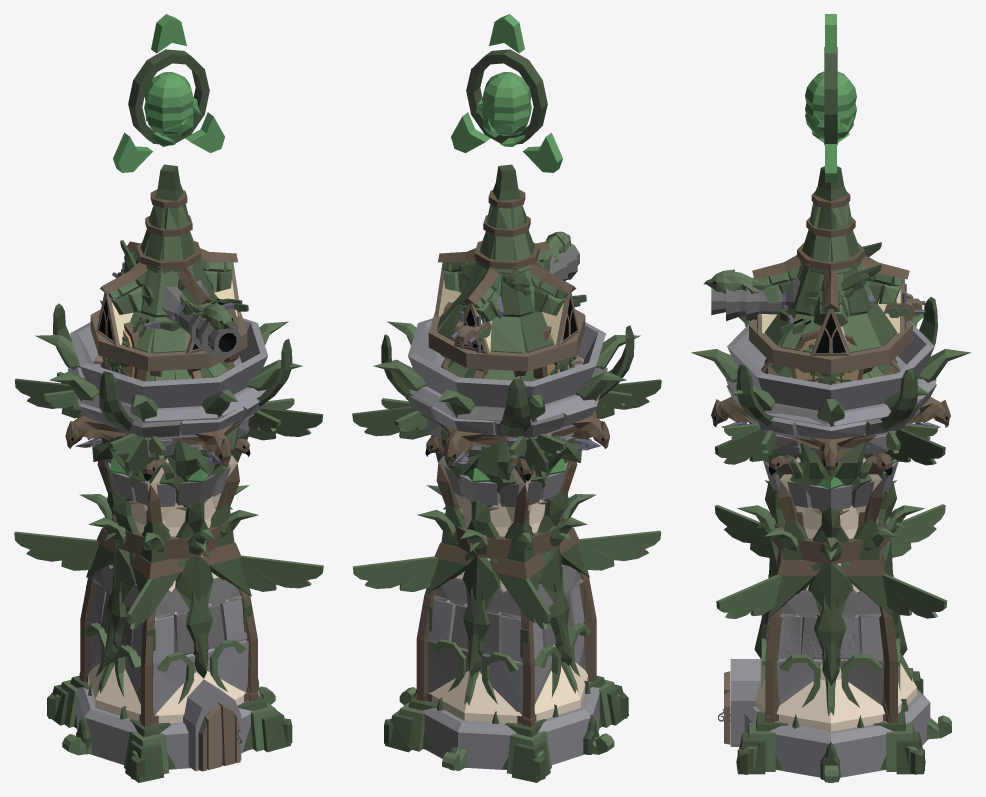
Rendered from tower-collection.fbx.
3 renders of one model, left to right at view 1: azimuth 30°, elevation 25°; view 2: azimuth 150°, elevation 25°; view 3: azimuth 270°, elevation 25°, orthographic.
Parts seen in each view (by area): view 1: Cannon_tower_LVL_4, Cannon_tower_LVL_1, Wizard_tower_LVL_4, Ballista_tower_LVL_4, Cannon_tower_LVL_2, Cannon_tower_LVL_3, Ballista_tower_LVL_3, Ballista_tower_LVL_1, Wizard_tower_LVL_3, Poison_tower_LVL_1, Ballista_tower_LVL_2, Poison_tower_LVL_4 (+7 smaller); view 2: Cannon_tower_LVL_3, Cannon_tower_LVL_4, Wizard_tower_LVL_3, Ballista_tower_LVL_3, Wizard_tower_LVL_4, Ballista_tower_LVL_2, Cannon_tower_LVL_1, Ballista_tower_LVL_4, Wizard_tower_LVL_1, Ballista_tower_LVL_1, Poison_tower_LVL_4, Poison_tower_LVL_3 (+5 smaller); view 3: Cannon_tower_LVL_4, Cannon_tower_LVL_3, Cannon_tower_LVL_1, Ballista_tower_LVL_4, Wizard_tower_LVL_4, Wizard_tower_LVL_3, Ballista_tower_LVL_3, Cannon_tower_LVL_2, Ballista_tower_LVL_1, Ballista_tower_LVL_2, Wizard_tower_LVL_1, Poison_tower_LVL_4 (+5 smaller).
Part boxes in pixels (left/top/right/bottom): Cannon_tower_LVL_4: left=14, top=240, right=323, bottom=782; Cannon_tower_LVL_1: left=78, top=280, right=267, bottom=726; Wizard_tower_LVL_4: left=86, top=14, right=253, bottom=684; Ballista_tower_LVL_4: left=14, top=262, right=322, bottom=770; Cannon_tower_LVL_2: left=79, top=303, right=267, bottom=714; Cannon_tower_LVL_3: left=52, top=304, right=290, bottom=782; Ballista_tower_LVL_3: left=15, top=262, right=322, bottom=771; Ballista_tower_LVL_1: left=83, top=298, right=245, bottom=771; Wizard_tower_LVL_3: left=85, top=49, right=249, bottom=724; Poison_tower_LVL_1: left=54, top=303, right=292, bottom=726; Ballista_tower_LVL_2: left=61, top=269, right=294, bottom=769; Poison_tower_LVL_4: left=47, top=368, right=292, bottom=780; Cannon_tower_LVL_3: left=385, top=231, right=628, bottom=782; Cannon_tower_LVL_4: left=353, top=231, right=661, bottom=782; Wizard_tower_LVL_3: left=428, top=49, right=590, bottom=724; Ballista_tower_LVL_3: left=352, top=294, right=661, bottom=757; Wizard_tower_LVL_4: left=426, top=14, right=581, bottom=724; Ballista_tower_LVL_2: left=381, top=295, right=599, bottom=769; Cannon_tower_LVL_1: left=408, top=253, right=607, bottom=718; Ballista_tower_LVL_4: left=399, top=325, right=645, bottom=760; Wizard_tower_LVL_1: left=415, top=97, right=577, bottom=523; Ballista_tower_LVL_1: left=429, top=299, right=587, bottom=723; Poison_tower_LVL_4: left=384, top=398, right=628, bottom=780; Poison_tower_LVL_3: left=384, top=328, right=628, bottom=725; Cannon_tower_LVL_4: left=691, top=242, right=970, bottom=774; Cannon_tower_LVL_3: left=706, top=269, right=951, bottom=782; Cannon_tower_LVL_1: left=727, top=277, right=926, bottom=733; Ballista_tower_LVL_4: left=715, top=293, right=944, bottom=779; Wizard_tower_LVL_4: left=743, top=14, right=904, bottom=722; Wizard_tower_LVL_3: left=749, top=47, right=912, bottom=722; Ballista_tower_LVL_3: left=715, top=309, right=945, bottom=777; Cannon_tower_LVL_2: left=726, top=288, right=917, bottom=722; Ballista_tower_LVL_1: left=718, top=298, right=916, bottom=746; Ballista_tower_LVL_2: left=724, top=283, right=937, bottom=777; Wizard_tower_LVL_1: left=751, top=113, right=920, bottom=700; Poison_tower_LVL_4: left=711, top=396, right=950, bottom=774.
Size of the model in its own units: 802 by 2277 by 802.
